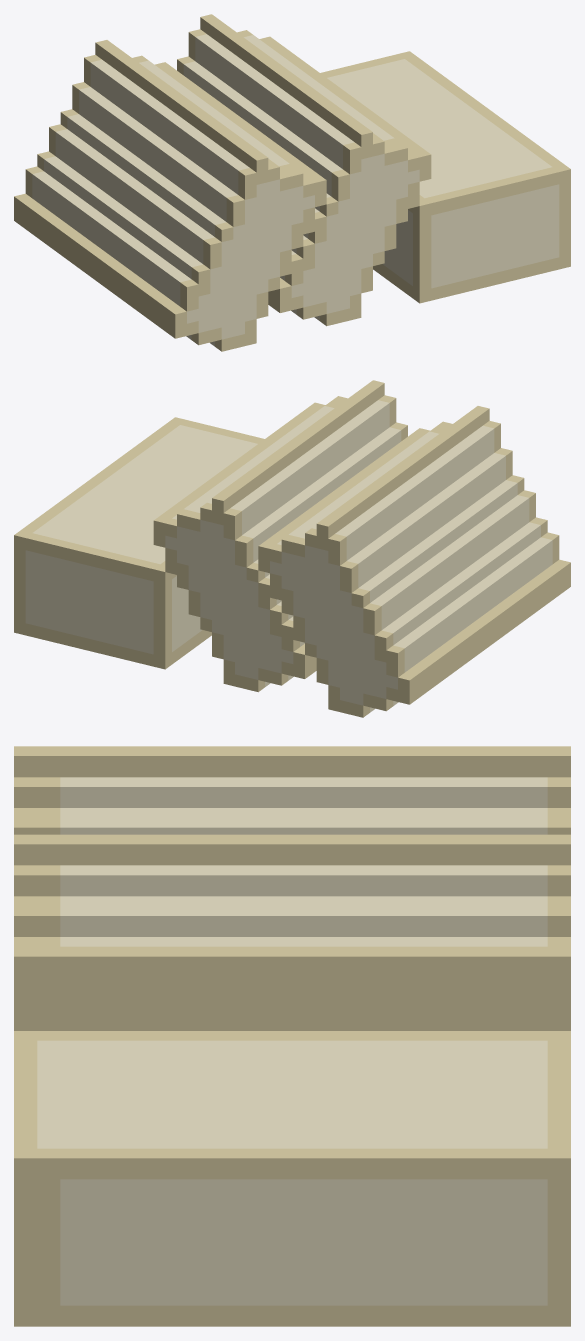
The model's file is ingredients.vox-5-tofu-sliced.obj.
3 renders of one model, top to bottom at view 1: azimuth 30°, elevation 25°; view 2: azimuth 150°, elevation 25°; view 3: azimuth 270°, elevation 25°, orthographic. The views are drawn at different scales.
Parts seen in each view (by area): view 1: tofu-sliced; view 2: tofu-sliced; view 3: tofu-sliced.
Part boxes in pixels (<box>): tofu-sliced: <box>14,14,570,351</box>; tofu-sliced: <box>14,380,570,717</box>; tofu-sliced: <box>14,746,570,1326</box>.
Size of the model in its own units: 3.4 by 1.5 by 2.4.
1 material, 1 textured.
